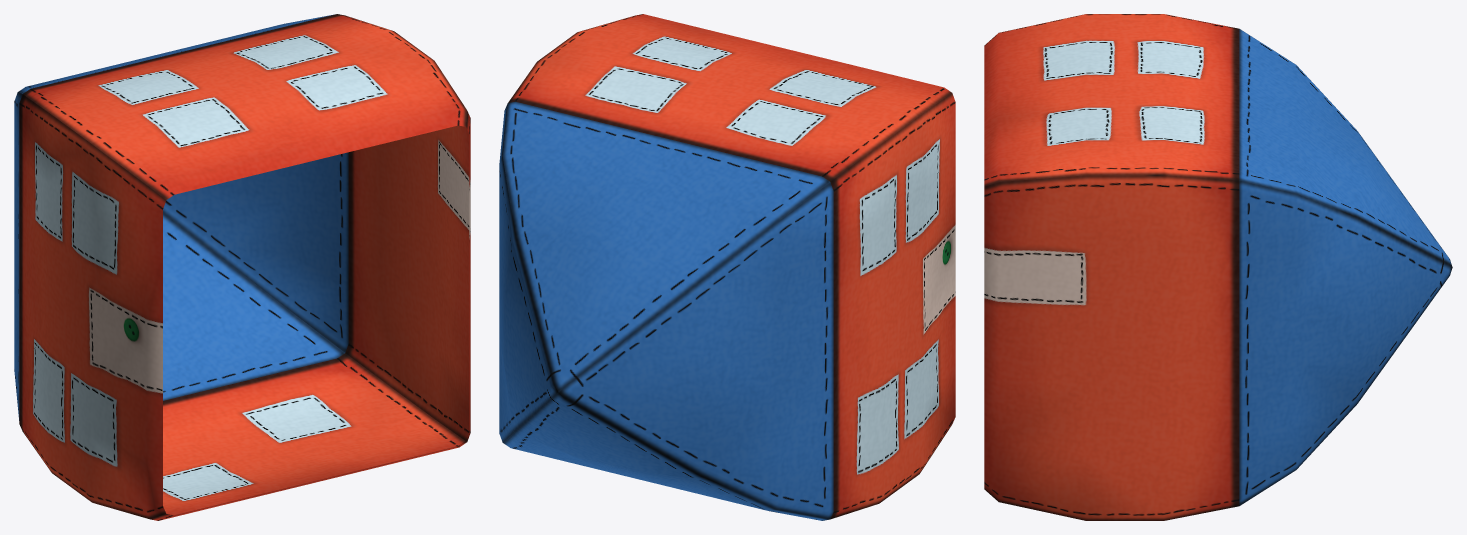
File: house1.fbx
3 renders of one model, left to right at view 1: azimuth 30°, elevation 25°; view 2: azimuth 150°, elevation 25°; view 3: azimuth 270°, elevation 25°, orthographic. The views are drawn at different scales.
Visible parts, largest first — view 1: pCube1; view 2: pCube1; view 3: pCube1.
Part boxes in pixels (bbox=[...]): pCube1: bbox=[14, 14, 470, 520]; pCube1: bbox=[499, 14, 955, 520]; pCube1: bbox=[984, 14, 1452, 520].
Size of the model in its own units: 600 by 723 by 600.
Materials: 1 (1 with a texture image).
